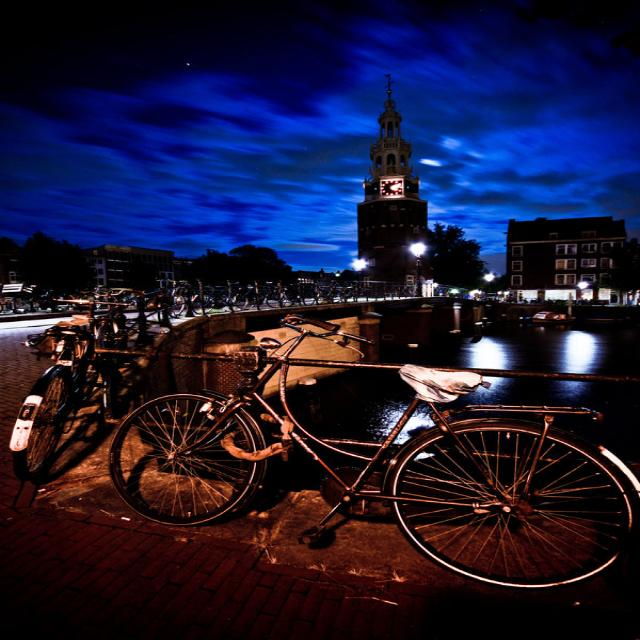Bicycle: (137, 342, 640, 587), (5, 299, 147, 477)
